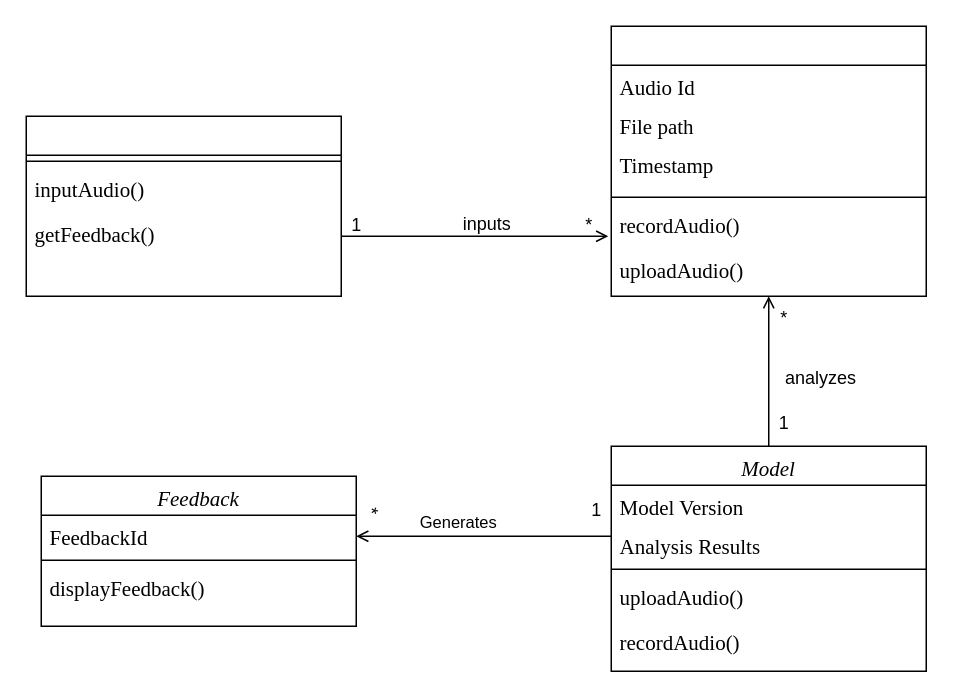
The diagram is 953 pixels wide and 698 high, and some of its shapes have lost their labels. The box of each missing label's shape, as (x1, y1, x2, y2) in pixels:
Audio Input: (610, 25, 926, 296)
User: (25, 115, 341, 296)
